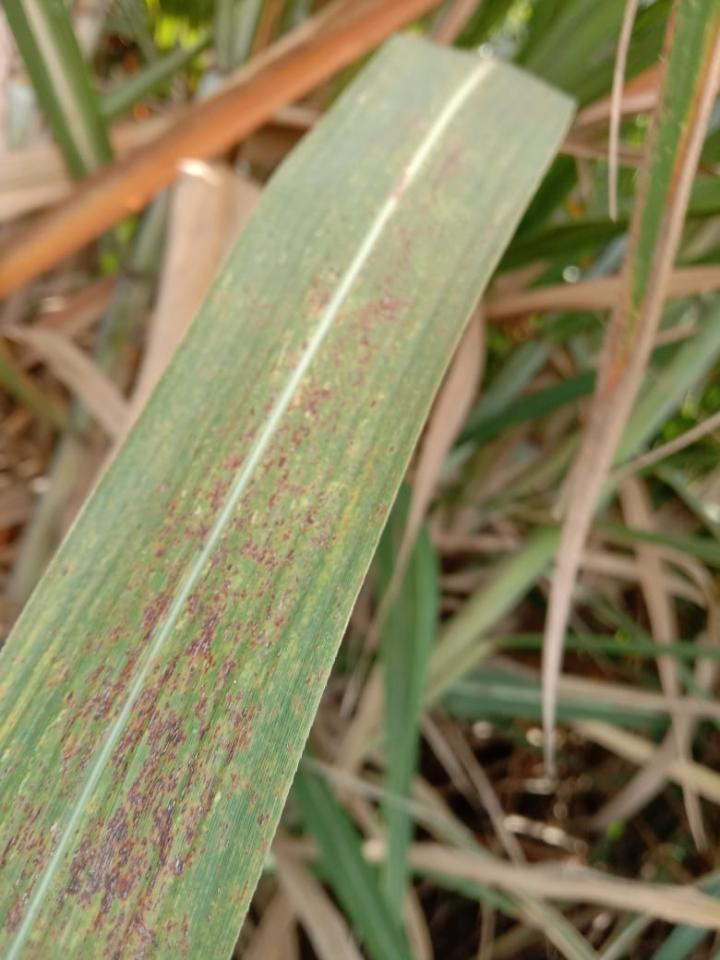Rust: (16, 131, 472, 959), (0, 258, 351, 959)
